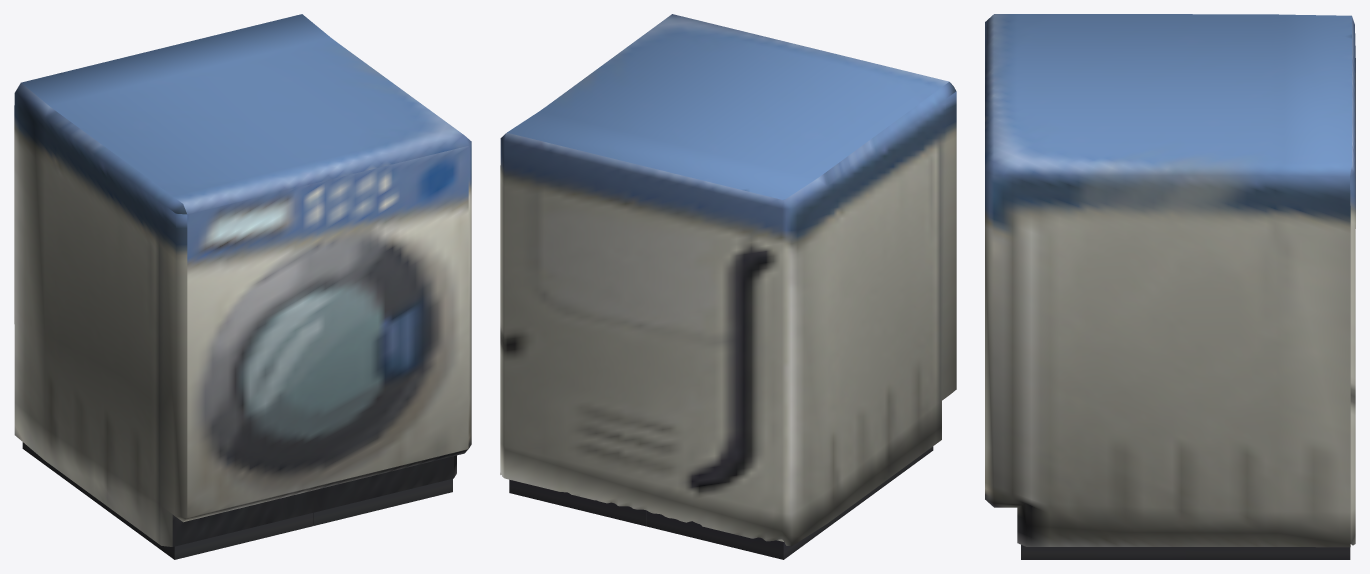
The model's file is W_ComboWD.fbx.
The picture shows the model from 3 angles, left to right: view 1: azimuth 30°, elevation 25°; view 2: azimuth 150°, elevation 25°; view 3: azimuth 270°, elevation 25°; orthographic projection. The views are drawn at different scales.
Visible parts, largest first — view 1: Combo; view 2: Combo; view 3: Combo.
Part boxes in pixels (<box>): Combo: <box>14,14,471,559</box>; Combo: <box>500,14,956,559</box>; Combo: <box>985,14,1355,559</box>.
Size of the model in its own units: 0.5306 by 0.6222 by 0.5269.
